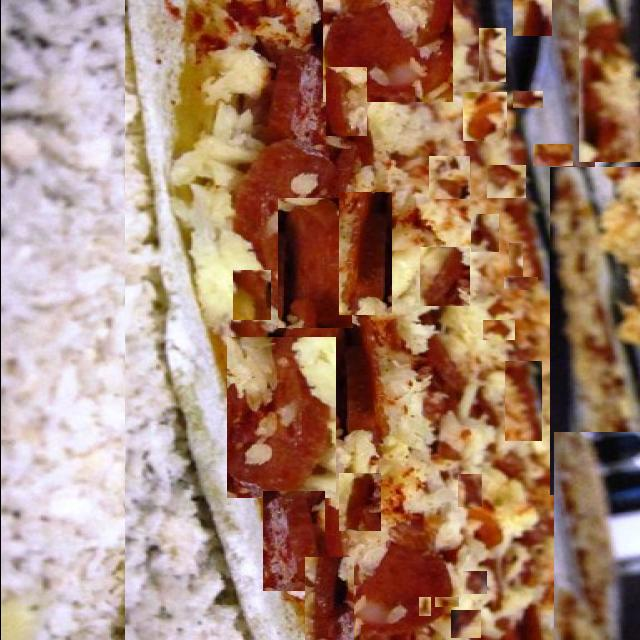pepperoni: (226, 338, 335, 500), (322, 0, 452, 102), (277, 198, 351, 328), (294, 50, 339, 230), (338, 192, 391, 315), (262, 492, 324, 591), (304, 557, 353, 640), (340, 323, 374, 419), (504, 361, 541, 441), (419, 247, 469, 306), (325, 67, 366, 136), (338, 473, 380, 531), (462, 92, 506, 141), (232, 270, 270, 320), (428, 156, 469, 199), (359, 595, 401, 631), (478, 28, 505, 82), (512, 0, 551, 36), (484, 165, 524, 198), (470, 214, 498, 252), (532, 144, 572, 166), (450, 610, 480, 638), (392, 537, 418, 568), (482, 0, 520, 21), (457, 474, 481, 507), (482, 320, 514, 340), (462, 571, 486, 594), (512, 91, 542, 108), (508, 243, 522, 278), (503, 277, 537, 290), (433, 597, 458, 607), (418, 597, 430, 616)
pizza: (124, 0, 594, 640), (549, 167, 640, 495), (553, 432, 640, 640), (578, 0, 640, 162)
